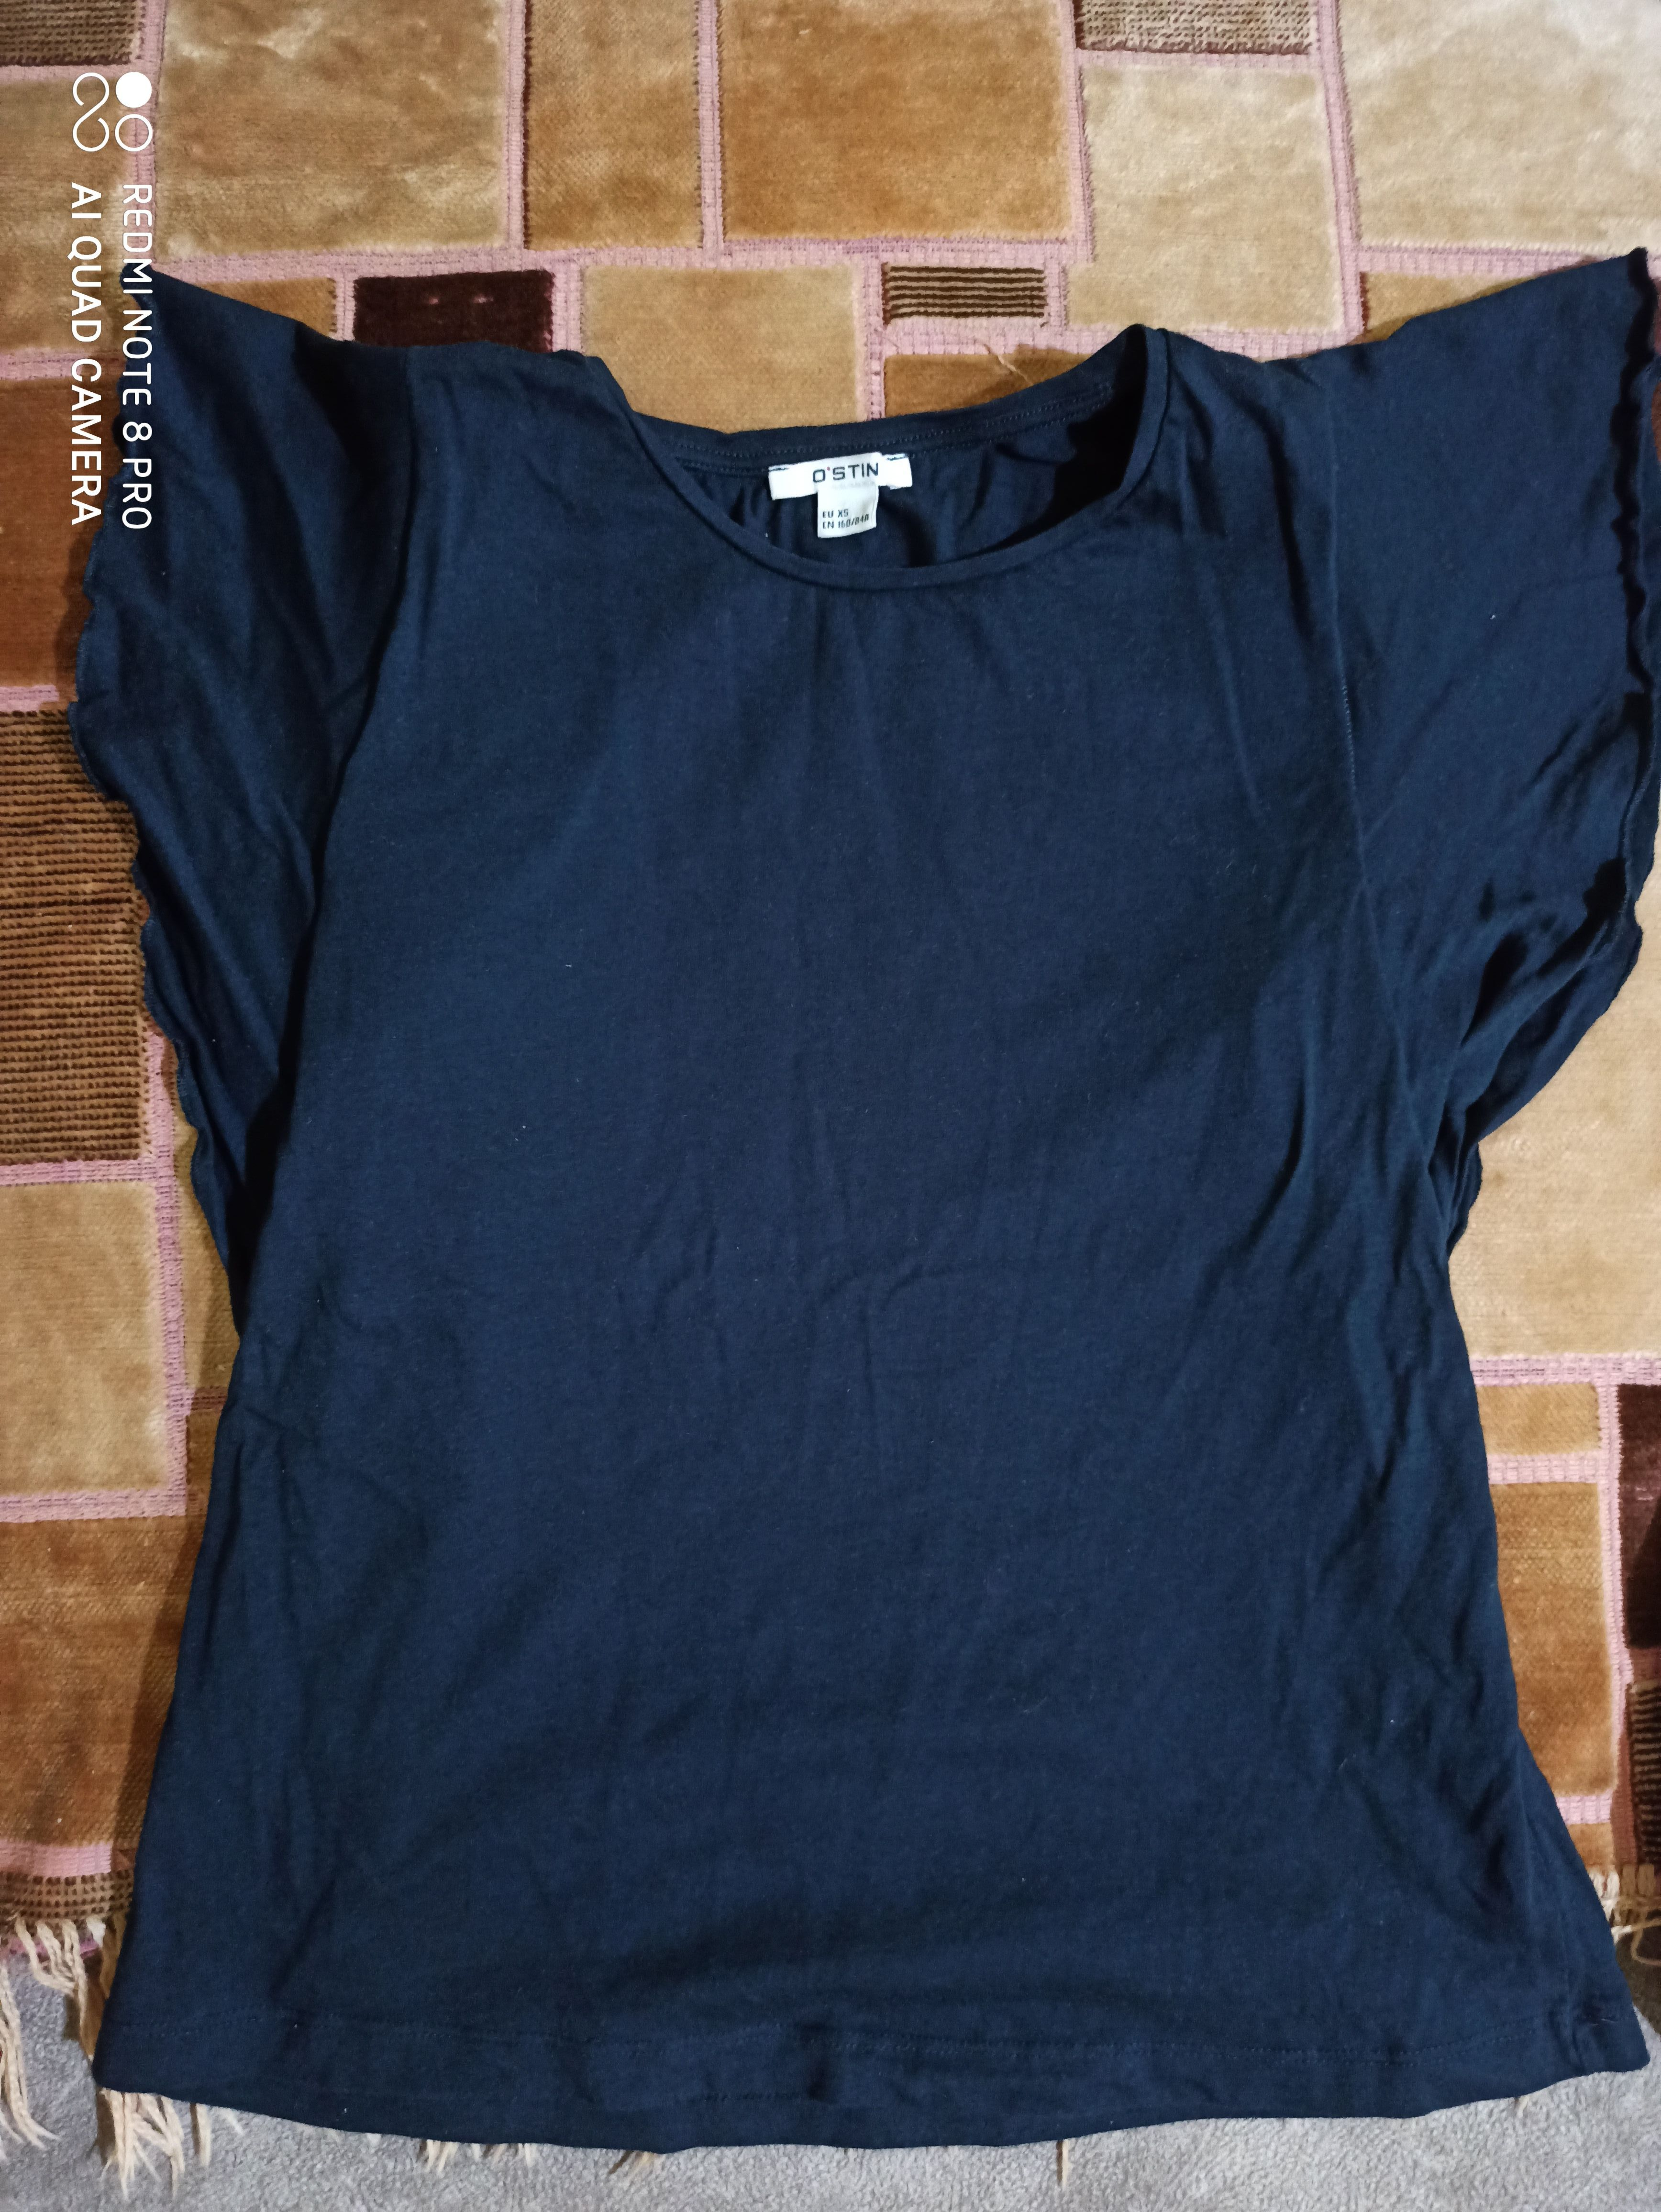clothes: (73, 255, 1649, 2100)
